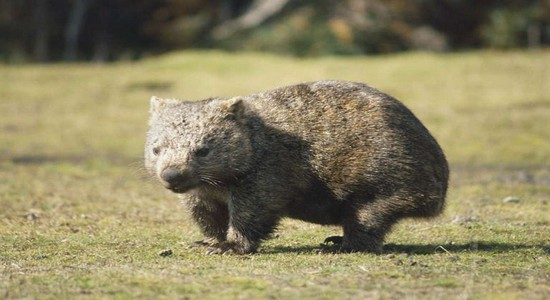Wombat: (143, 77, 448, 255)
